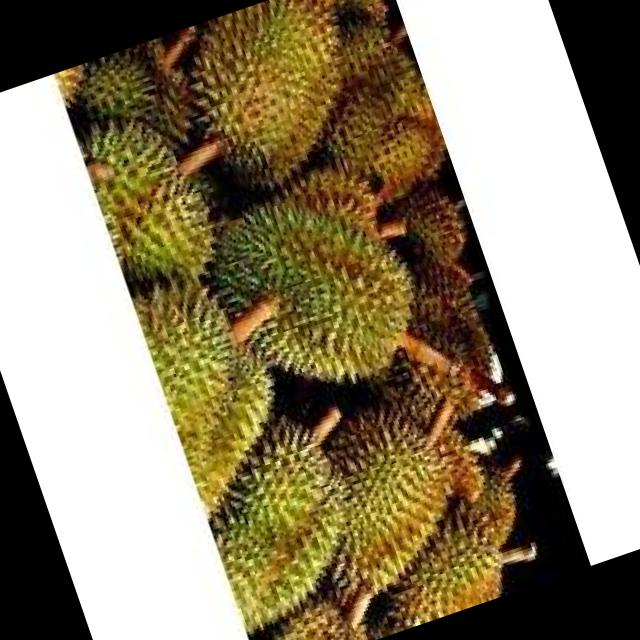fruit: (173, 327, 563, 640), (152, 111, 486, 458), (109, 0, 414, 232)
